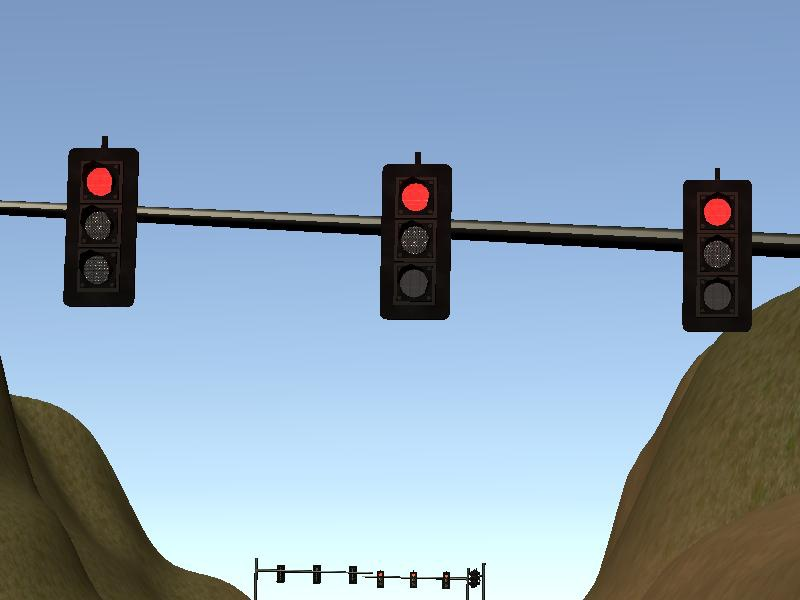red_light: (683, 182, 752, 329), (69, 149, 133, 304), (385, 167, 448, 316)
